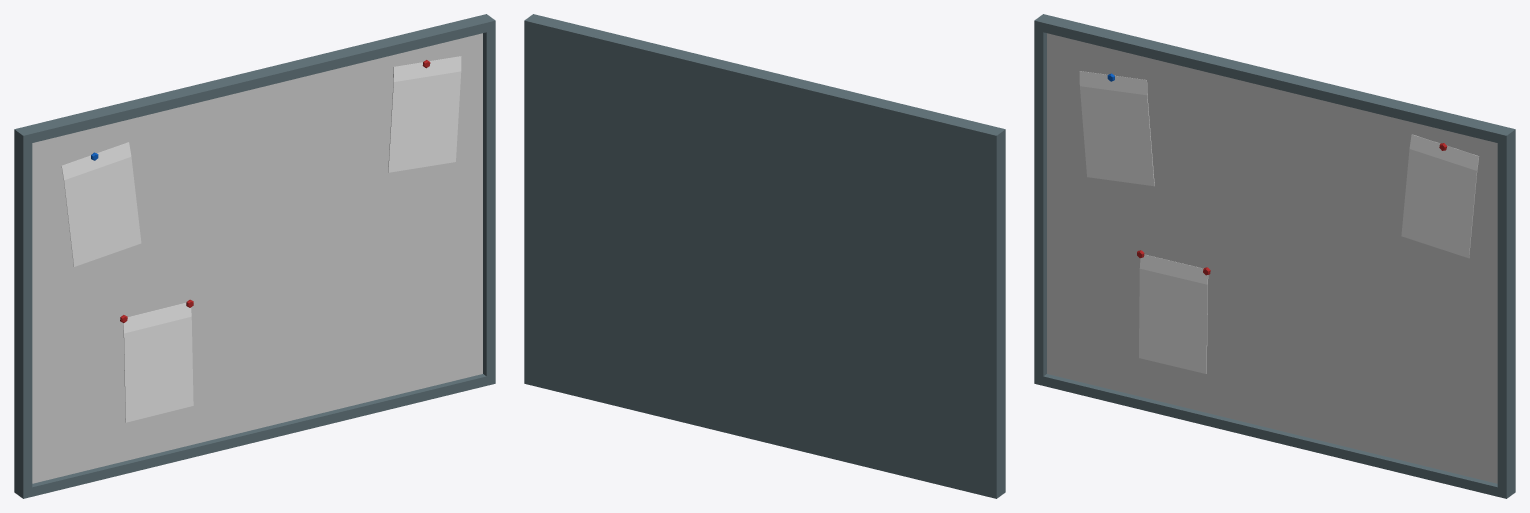
The model's file is BoardV2.fbx.
3 views of the same model, side by side, from view 1: azimuth 30°, elevation 25°; view 2: azimuth 150°, elevation 25°; view 3: azimuth 330°, elevation 25° (orthographic).
Parts seen in each view (by area): view 1: BoardV2; view 2: BoardV2; view 3: BoardV2.
Part boxes in pixels (<box>): BoardV2: <box>14,14,495,498</box>; BoardV2: <box>524,14,1005,498</box>; BoardV2: <box>1034,14,1515,498</box>.
Bounding box in the file's own units: 118 × 86.44 × 3.9.
